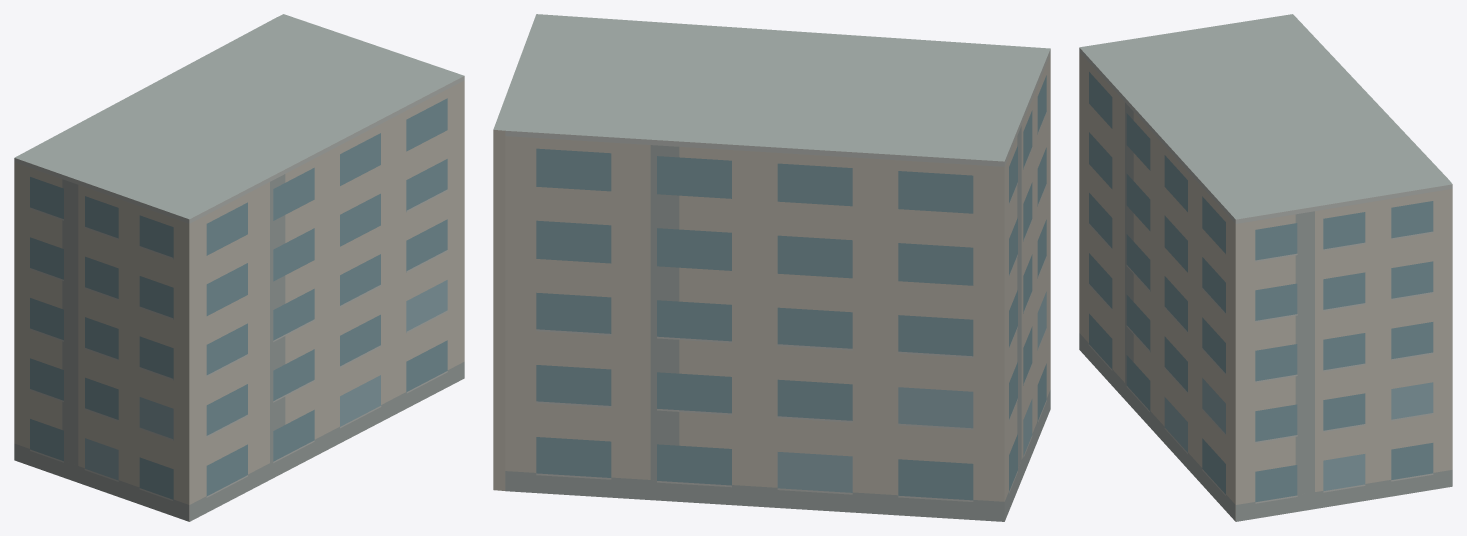
File: survey-upis-32894095.glb
The picture shows the model from 3 angles, left to right: view 1: azimuth 30°, elevation 25°; view 2: azimuth 150°, elevation 25°; view 3: azimuth 270°, elevation 25°; orthographic projection. The views are drawn at different scales.
Visible parts, largest first — view 1: survey-upis-32894095.tmp; view 2: survey-upis-32894095.tmp; view 3: survey-upis-32894095.tmp.
Part boxes in pixels (<box>): survey-upis-32894095.tmp: <box>14,14,464,521</box>; survey-upis-32894095.tmp: <box>493,14,1050,521</box>; survey-upis-32894095.tmp: <box>1079,14,1452,521</box>.
Bounding box in the file's own units: 24.08 × 16.5 × 18.48.
